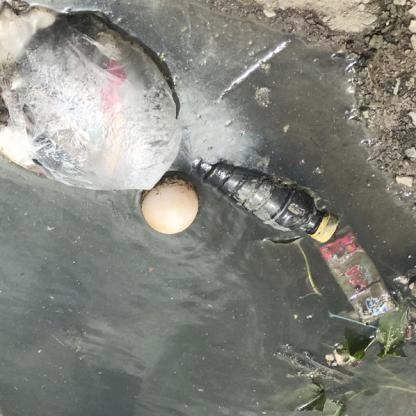Plastic: (208, 157, 350, 243)
Trash: (0, 20, 177, 189), (315, 225, 406, 322), (138, 177, 195, 233)
